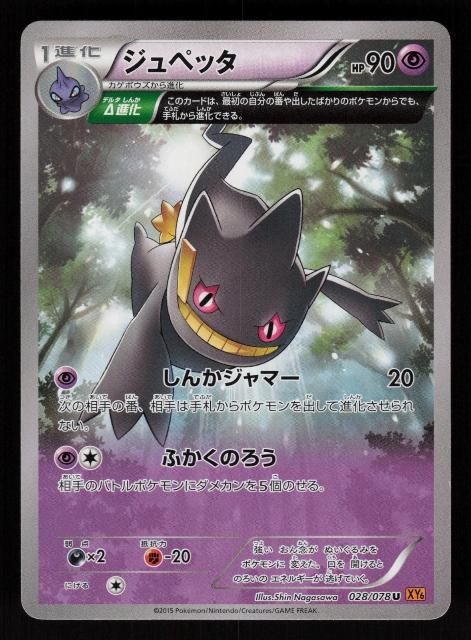Card: (16, 15, 456, 625)
Name: (116, 41, 243, 79)
